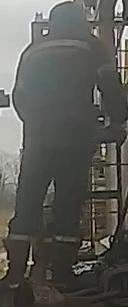vest: (14, 34, 108, 156)
